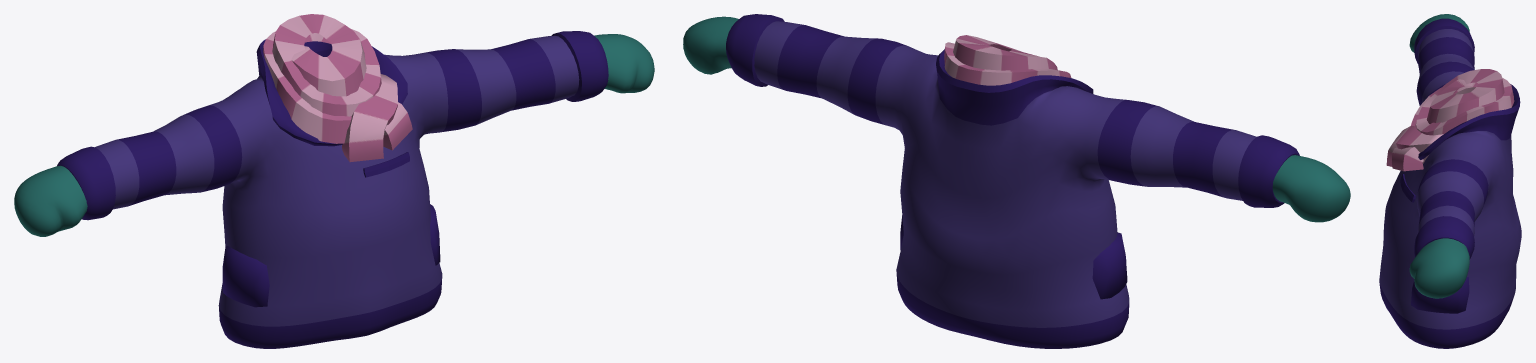
The model's file is 2滑雪夹克.fbx.
The picture shows the model from 3 angles, left to right: view 1: azimuth 30°, elevation 25°; view 2: azimuth 150°, elevation 25°; view 3: azimuth 270°, elevation 25°; orthographic projection. The views are drawn at different scales.
Parts seen in each view (by area): view 1: 2滑雪夹克; view 2: 2滑雪夹克; view 3: 2滑雪夹克.
Part boxes in pixels (left/top/right/bottom): 2滑雪夹克: left=14, top=14, right=654, bottom=348; 2滑雪夹克: left=683, top=14, right=1350, bottom=348; 2滑雪夹克: left=1379, top=14, right=1521, bottom=348.
Bounding box in the file's own units: 1.99 × 0.8351 × 0.4648.
